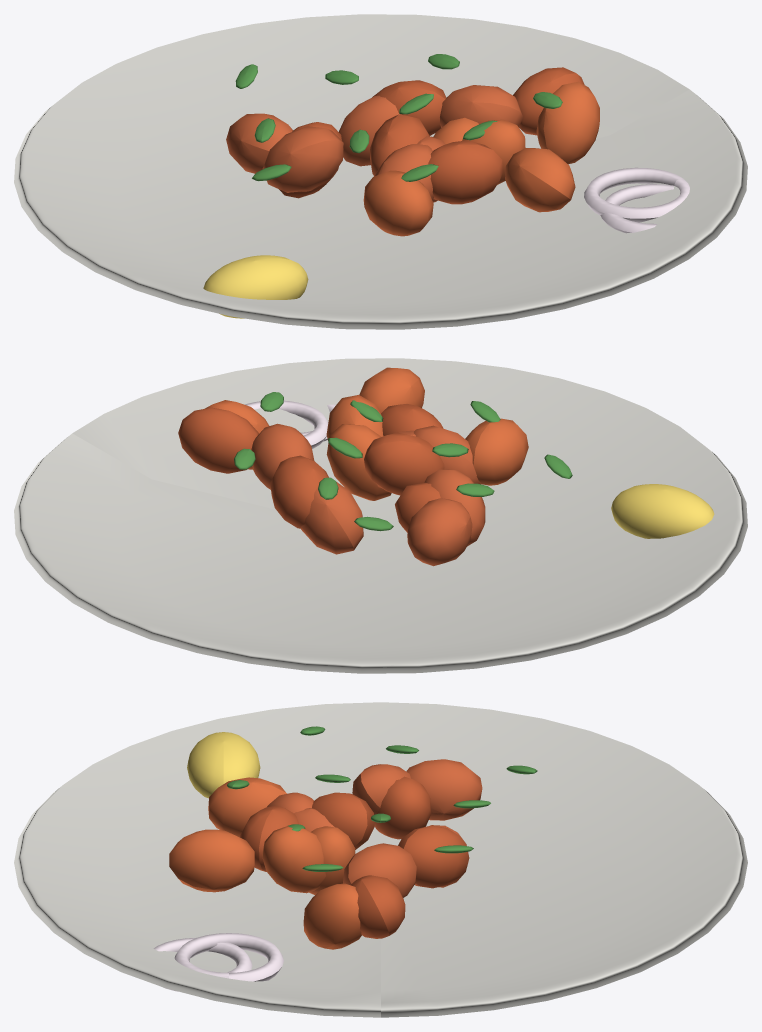
The model's file is chicken-65.glb.
The picture shows the model from 3 angles, top to bottom: view 1: azimuth 30°, elevation 25°; view 2: azimuth 150°, elevation 25°; view 3: azimuth 270°, elevation 25°; orthographic projection.
Parts seen in each view (by area): view 1: chicken-65; view 2: chicken-65; view 3: chicken-65.
Part boxes in pixels (x1,y1,x2,y2): chicken-65: (14, 14, 747, 329); chicken-65: (14, 358, 747, 673); chicken-65: (14, 702, 747, 1017).
Size of the model in its own units: 0.28 by 0.0431 by 0.28.
